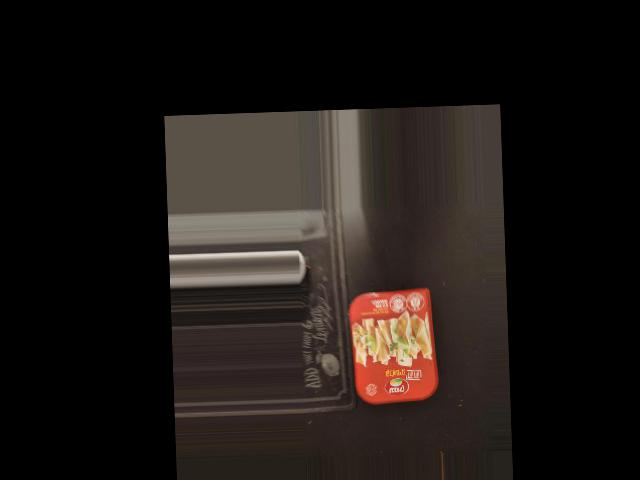cheese: (348, 289, 433, 405)
